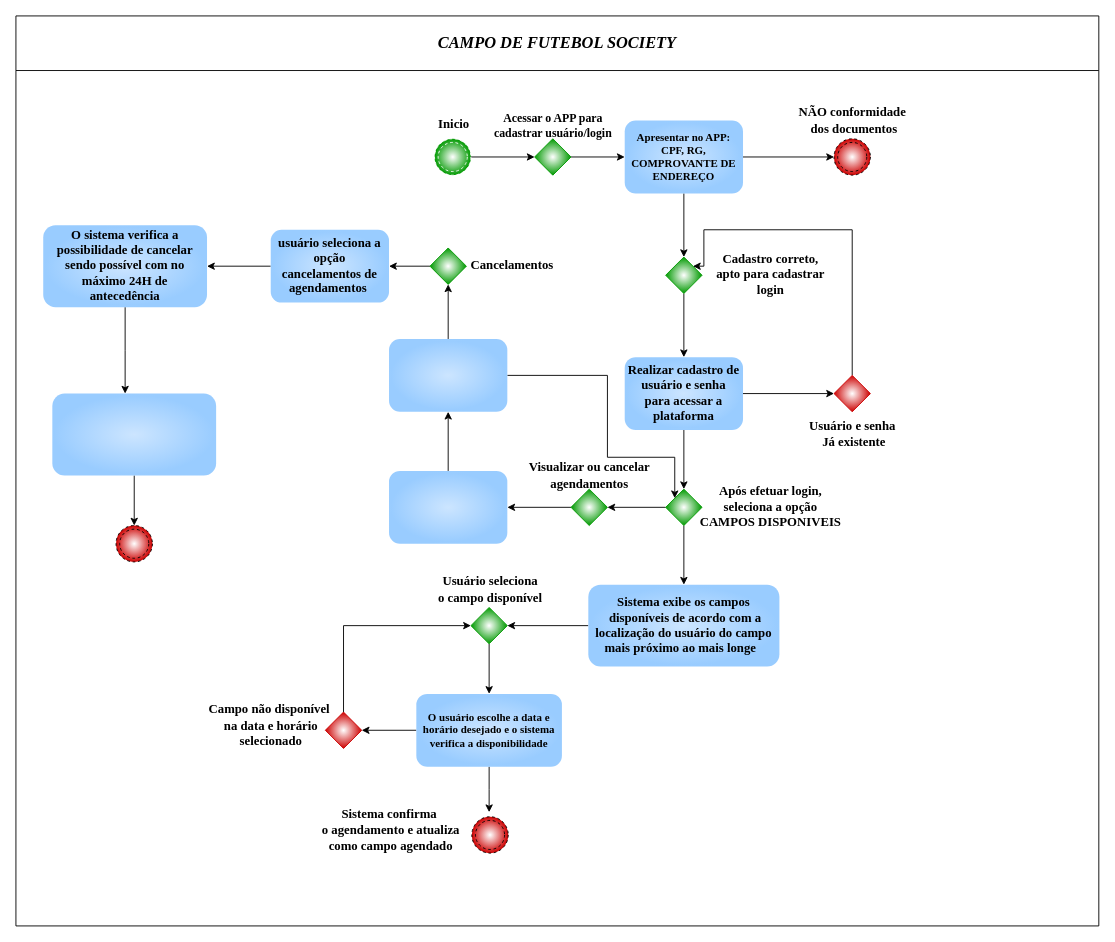
Some shapes in this 1115 by 942 pixel diagram are drawn without their labels. Each missing label, with the centre of its shape:
O sistema cancela o agendamento e atualiza a disponibilidade do campo: the point at 134,434
O Sistema exibe uma lista dos agendamentos feitos pelo Usuário: the point at 448,375
O usuário seleciona a opção para visualizar seus agendamentos: the point at 448,506
